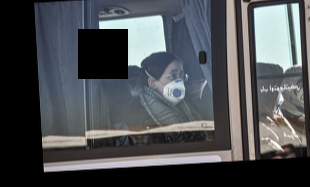with_mask: (159, 67, 187, 107)
